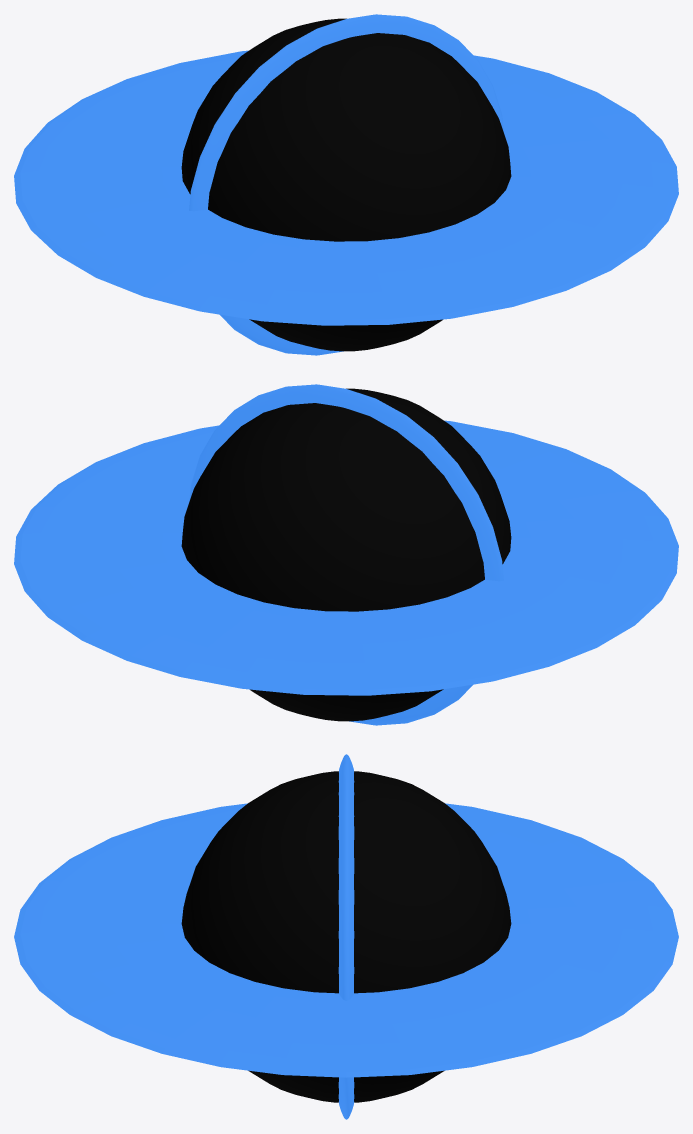
The model's file is blackHole.gltf.
3 renders of one model, top to bottom at view 1: azimuth 30°, elevation 25°; view 2: azimuth 150°, elevation 25°; view 3: azimuth 270°, elevation 25°, orthographic.
Visible parts, largest first — view 1: Sphere001, Sphere, Sphere002; view 2: Sphere001, Sphere, Sphere002; view 3: Sphere001, Sphere, Sphere002.
Part boxes in pixels (bbox=[...]): Sphere001: bbox=[14, 50, 678, 325]; Sphere: bbox=[181, 18, 511, 351]; Sphere002: bbox=[189, 14, 503, 355]; Sphere001: bbox=[14, 420, 678, 695]; Sphere: bbox=[181, 388, 511, 721]; Sphere002: bbox=[189, 384, 503, 725]; Sphere001: bbox=[14, 803, 678, 1077]; Sphere: bbox=[181, 771, 511, 1102]; Sphere002: bbox=[338, 754, 354, 1119].
Bounding box in the file's own units: 40 × 22 × 40.
